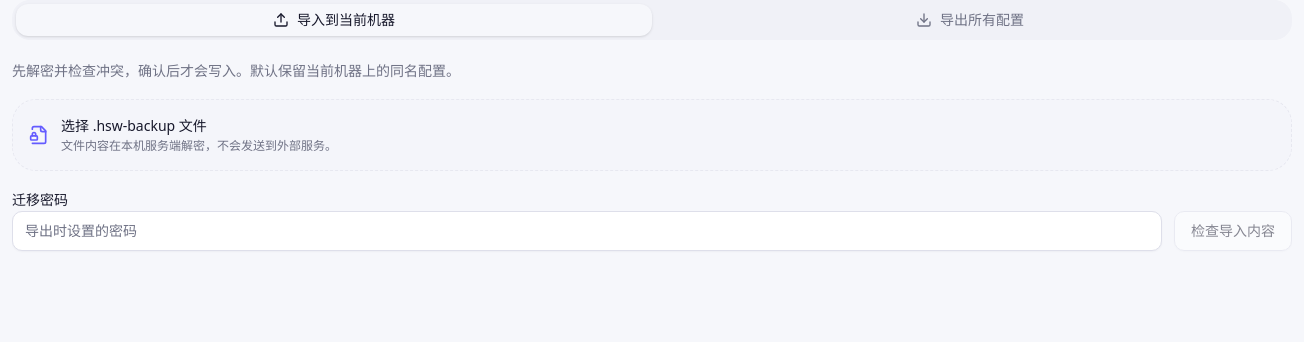
Test: exports all profiles only after the migration password is confirmed
Click the button "导出所有配置" at (970, 20), box 652,4 -> 1288,36
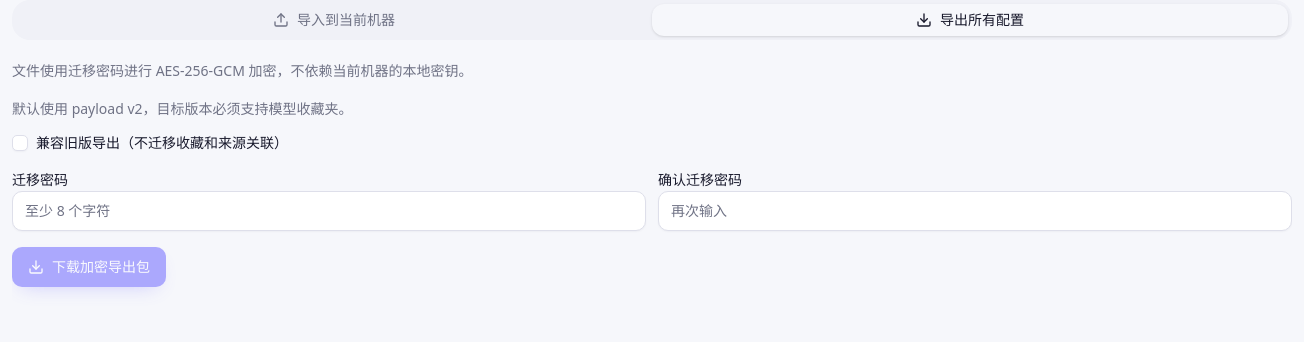
Expected: the button "下载加密导出包" is disabled, 12,247 -> 166,287
Type "portable-secret" into the password field labelled "迁移密码" at (329, 211), box 12,191 -> 646,231
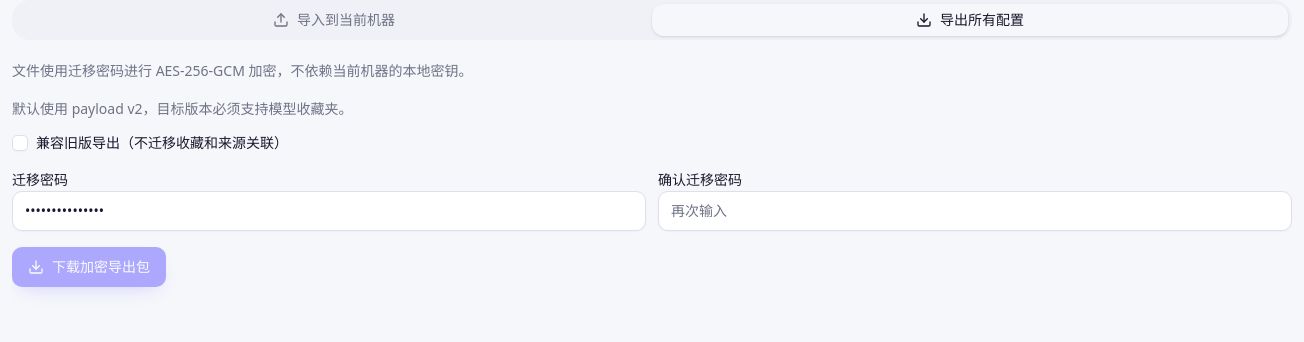
Type "portable-secret" into the password field labelled "确认迁移密码" at (975, 211), box 658,191 -> 1292,231
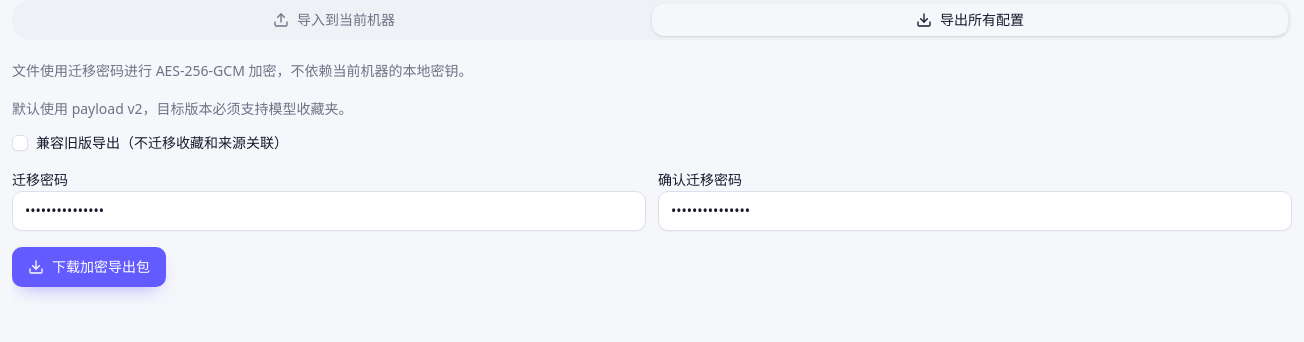
Click the button "下载加密导出包" at (89, 267), box 12,247 -> 166,287
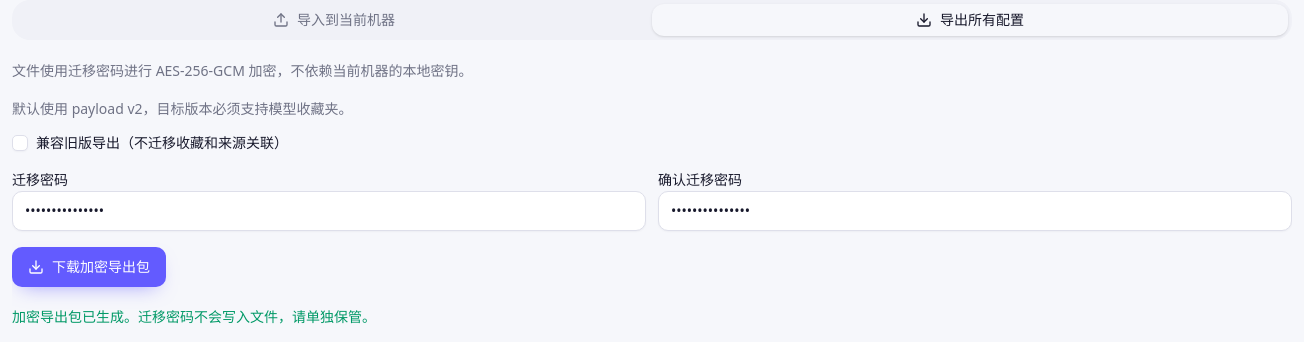
Expected: the text "加密导出包已生成。迁移密码不会写入文件，请单独保管。" is shown, 12,307 -> 376,326
